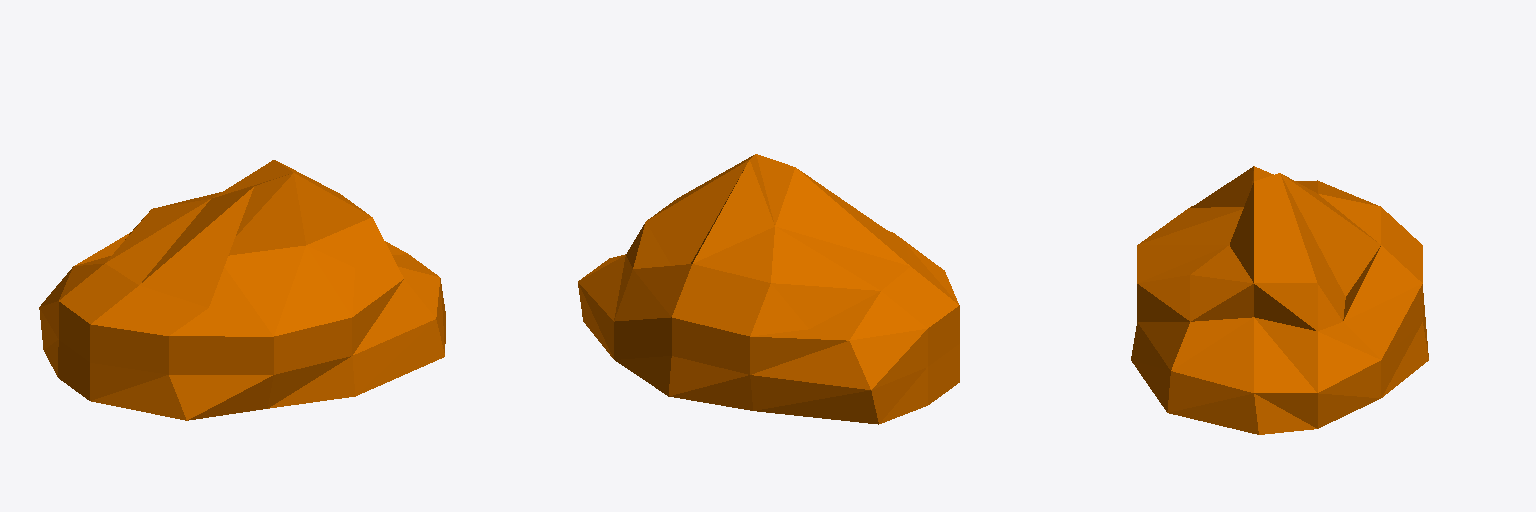
3 renders of one model, left to right at view 1: azimuth 30°, elevation 25°; view 2: azimuth 150°, elevation 25°; view 3: azimuth 270°, elevation 25°, orthographic.
Visible parts, largest first — view 1: pCube1; view 2: pCube1; view 3: pCube1.
Boxes of the visible parts, x1,y1,x2,y2 form: pCube1: [39, 160, 445, 420]; pCube1: [578, 154, 959, 424]; pCube1: [1131, 166, 1428, 434].
Bounding box in the file's own units: 5 × 2.46 × 3.61.
1 materials, 1 textured.